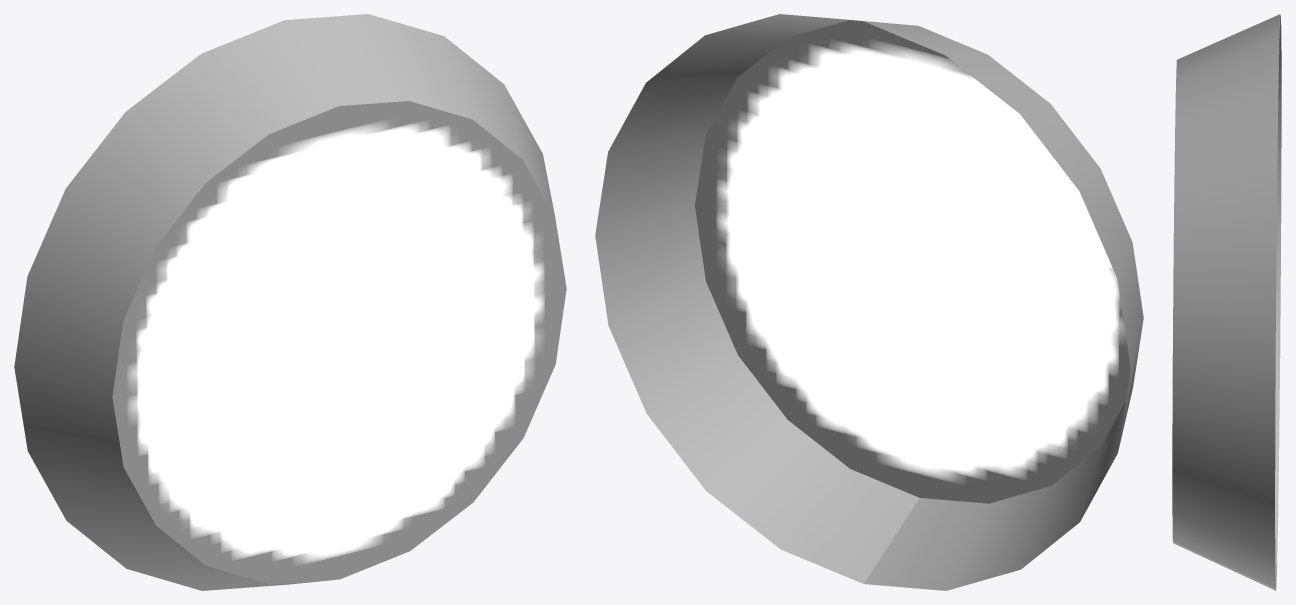
The model's file is KF_SM_VentM.fbx.
3 renders of one model, left to right at view 1: azimuth 30°, elevation 25°; view 2: azimuth 150°, elevation 25°; view 3: azimuth 270°, elevation 25°, orthographic. The views are drawn at different scales.
Parts seen in each view (by area): view 1: KF_SM_VentM; view 2: KF_SM_VentM; view 3: KF_SM_VentM.
Boxes of the visible parts, left/top/right/bottom form: KF_SM_VentM: left=14, top=14, right=566, bottom=590; KF_SM_VentM: left=595, top=14, right=1143, bottom=590; KF_SM_VentM: left=1172, top=14, right=1281, bottom=590.
Bounding box in the file's own units: 329 × 329 × 61.84.
